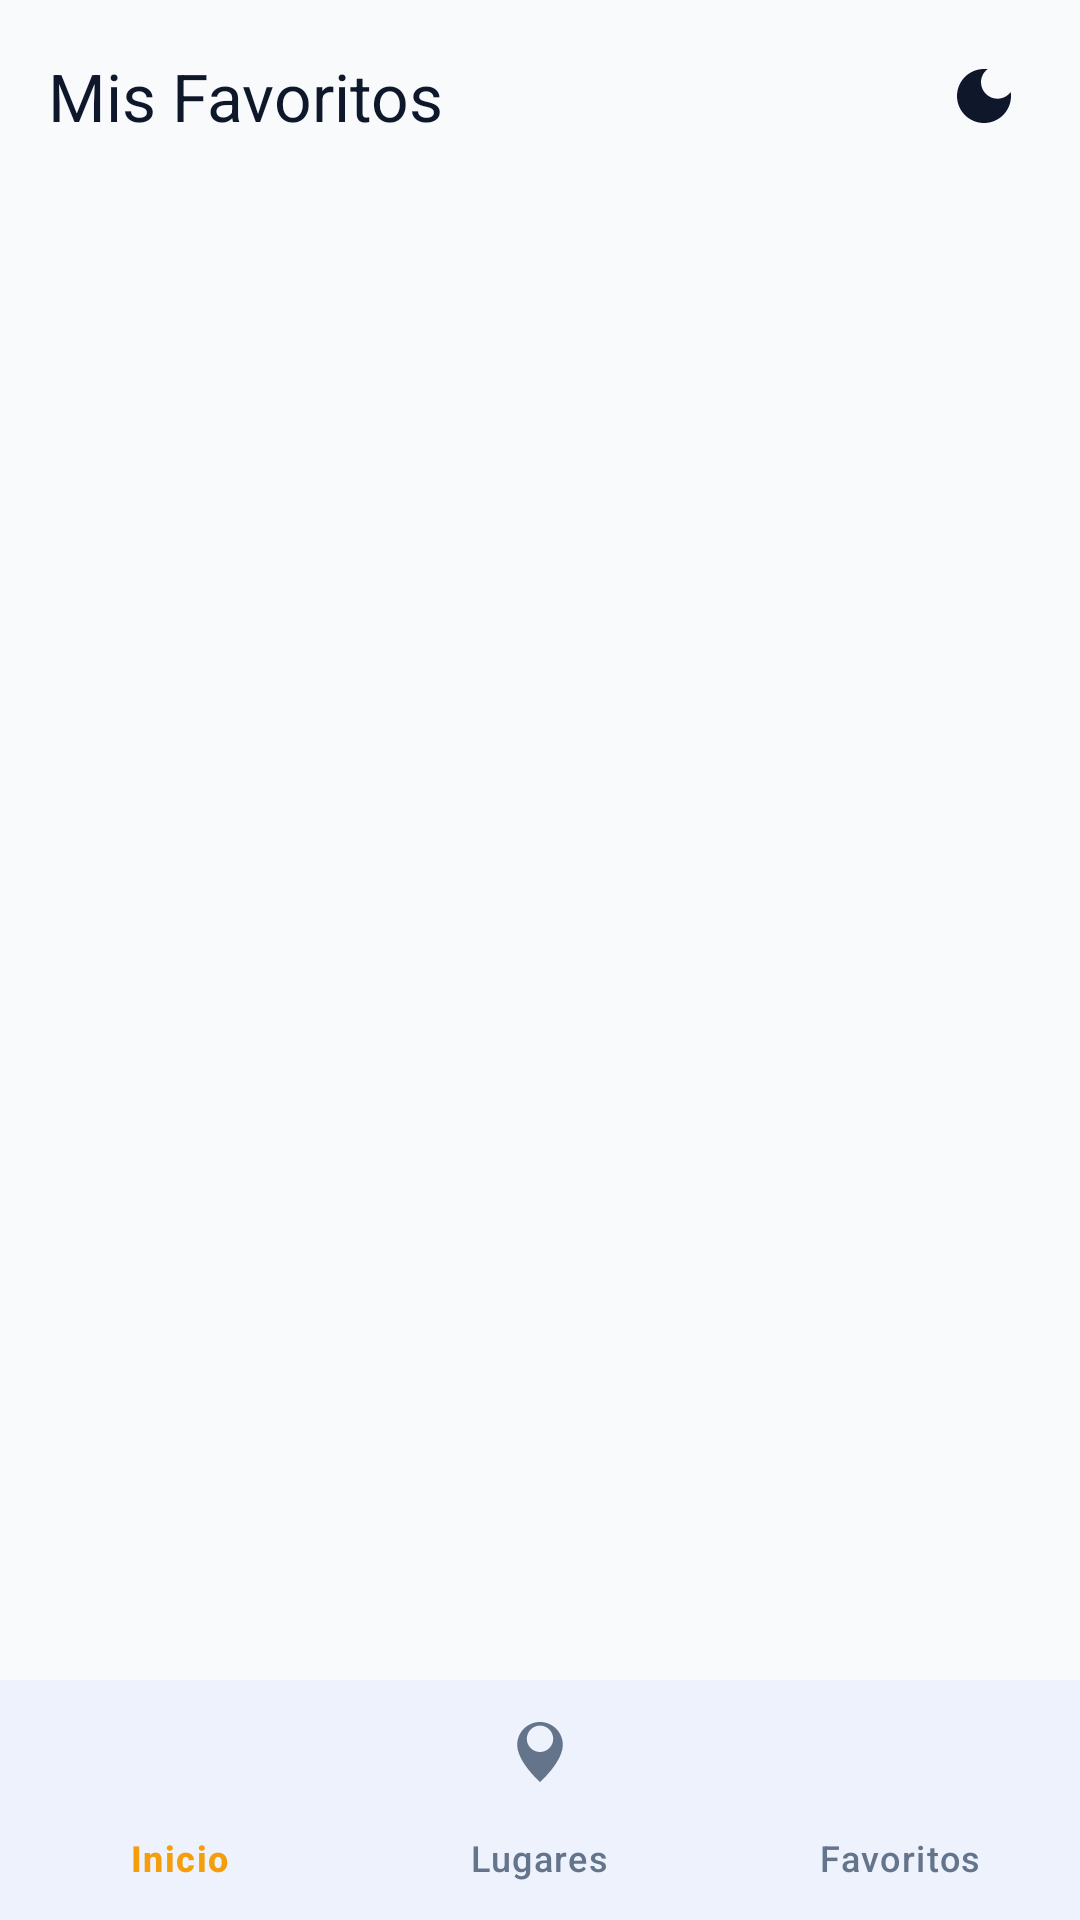

Icon click points for this 1080 x 1920 phone screenshot, format (x,y):
Cambiar Tema: (984,96)
